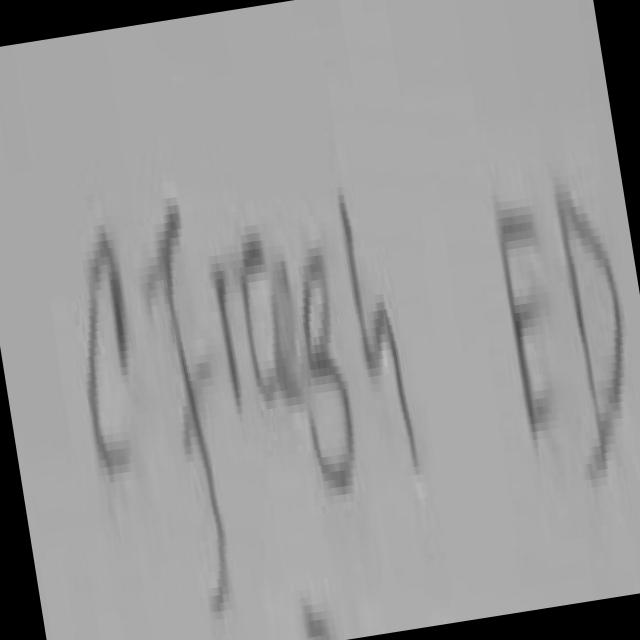C: (88, 225, 127, 467)
D: (558, 191, 623, 467)
E: (499, 213, 556, 439)
e: (269, 254, 303, 409)
f: (146, 195, 225, 607)
h: (340, 195, 418, 462)
r: (213, 232, 278, 411)
s: (304, 256, 351, 481)
